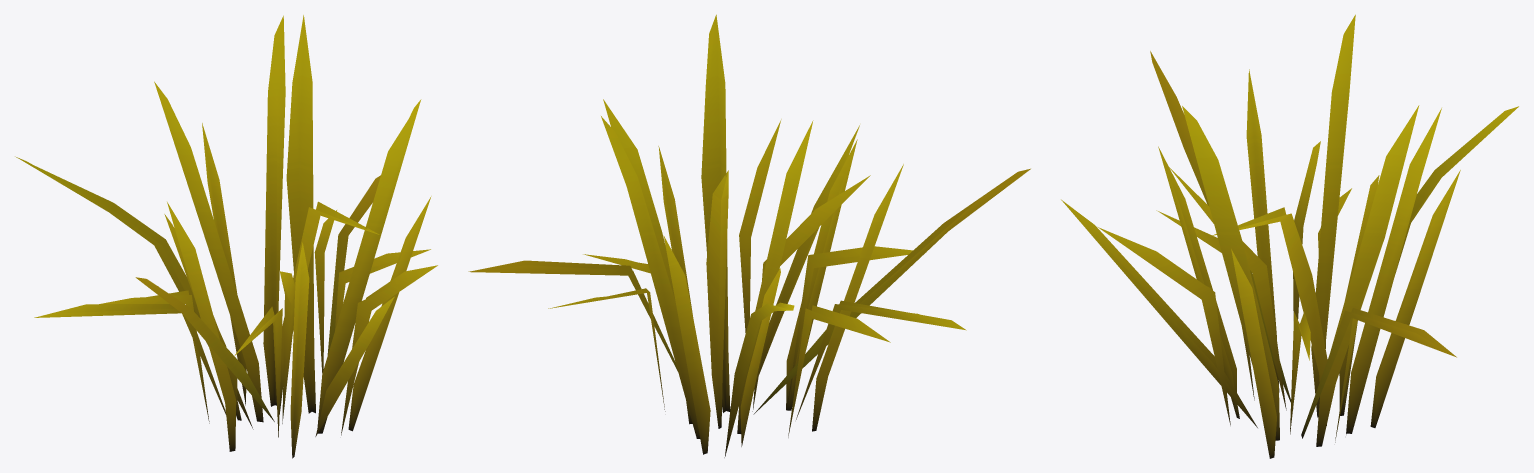
Rendered from grass_wispy_short.glb.
3 renders of one model, left to right at view 1: azimuth 30°, elevation 25°; view 2: azimuth 150°, elevation 25°; view 3: azimuth 270°, elevation 25°, orthographic. The views are drawn at different scales.
Visible parts, largest first — view 1: Grass_Wispy_Short; view 2: Grass_Wispy_Short; view 3: Grass_Wispy_Short.
Boxes of the visible parts, bbox=[...] form: Grass_Wispy_Short: bbox=[15, 15, 437, 458]; Grass_Wispy_Short: bbox=[468, 14, 1030, 457]; Grass_Wispy_Short: bbox=[1061, 14, 1518, 458].
Size of the model in its own units: 1.32 by 1.07 by 1.18.
1 material, 1 textured.
